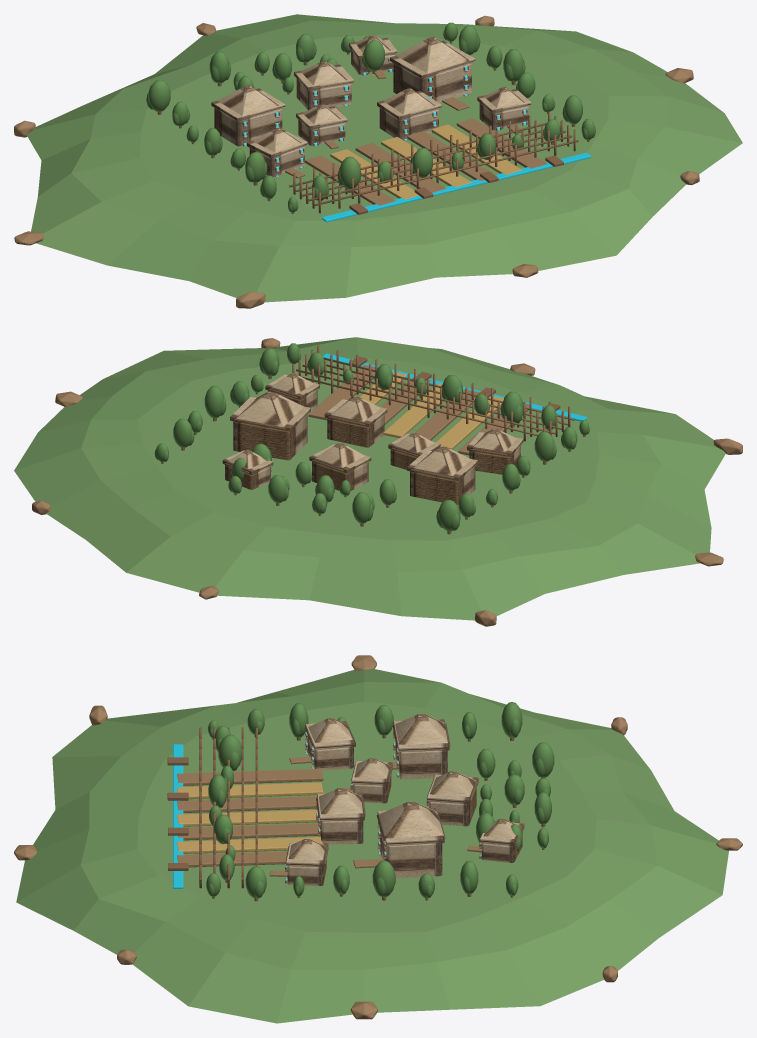
File: shinovar.glb
3 renders of one model, top to bottom at view 1: azimuth 30°, elevation 25°; view 2: azimuth 150°, elevation 25°; view 3: azimuth 270°, elevation 25°, orthographic. The views are drawn at different scales.
Parts seen in each view (by area): view 1: Shinovar_TerrainCradle_Valley_Transition, Shinovar_TerrainCradle_Valley_Surface, Shinovar_FarmHome_03_FacadeRoofBatch, Shinovar_TerrainCradle_Valley_OutcropBatch, Shinovar_FarmHome_03_Building, Shinovar_FarmHome_01_FacadeRoofBatch, Shinovar_FarmHome_01_Building, Shinovar_FarmHome_07_FacadeRoofBatch, Shinovar_FarmHome_02_FacadeRoofBatch, Shinovar_IrrigationChannel, Shinovar_FarmHome_05_FacadeRoofBatch, Shinovar_FarmHome_07_Building (+20 smaller); view 2: Shinovar_TerrainCradle_Valley_Transition, Shinovar_TerrainCradle_Valley_Surface, Shinovar_TerrainCradle_Valley_OutcropBatch, Shinovar_FarmHome_03_FacadeRoofBatch, Shinovar_FarmHome_03_Building, Shinovar_FarmHome_01_Building, Shinovar_FarmHome_01_FacadeRoofBatch, Shinovar_FarmHome_07_Building, Shinovar_FarmHome_07_FacadeRoofBatch, Shinovar_FarmHome_02_FacadeRoofBatch, Shinovar_FarmHome_05_FacadeRoofBatch, Shinovar_Field_4 (+16 smaller); view 3: Shinovar_TerrainCradle_Valley_Transition, Shinovar_TerrainCradle_Valley_Surface, Shinovar_FarmHome_03_FacadeRoofBatch, Shinovar_TerrainCradle_Valley_OutcropBatch, Shinovar_FarmHome_01_FacadeRoofBatch, Shinovar_FarmHome_03_Building, Shinovar_Field_3, Shinovar_Field_1, Shinovar_FarmHome_07_FacadeRoofBatch, Shinovar_Field_4, Shinovar_Field_2, Shinovar_Field_5 (+16 smaller).
Boxes of the visible parts, <box> form: Shinovar_TerrainCradle_Valley_Transition: <box>26,14,742,302</box>; Shinovar_TerrainCradle_Valley_Surface: <box>139,34,608,220</box>; Shinovar_FarmHome_03_FacadeRoofBatch: <box>390,36,475,98</box>; Shinovar_TerrainCradle_Valley_OutcropBatch: <box>14,15,699,308</box>; Shinovar_FarmHome_03_Building: <box>393,63,471,103</box>; Shinovar_FarmHome_01_FacadeRoofBatch: <box>211,85,285,146</box>; Shinovar_FarmHome_01_Building: <box>214,108,282,146</box>; Shinovar_FarmHome_07_FacadeRoofBatch: <box>377,88,441,140</box>; Shinovar_FarmHome_02_FacadeRoofBatch: <box>294,61,353,106</box>; Shinovar_IrrigationChannel: <box>322,152,591,222</box>; Shinovar_FarmHome_05_FacadeRoofBatch: <box>247,128,307,177</box>; Shinovar_FarmHome_07_Building: <box>379,108,438,139</box>; Shinovar_TerrainCradle_Valley_Transition: <box>14,337,725,620</box>; Shinovar_TerrainCradle_Valley_Surface: <box>137,358,599,540</box>; Shinovar_TerrainCradle_Valley_OutcropBatch: <box>32,338,742,626</box>; Shinovar_FarmHome_03_FacadeRoofBatch: <box>230,391,310,431</box>; Shinovar_FarmHome_03_Building: <box>233,415,307,460</box>; Shinovar_FarmHome_01_Building: <box>410,466,475,505</box>; Shinovar_FarmHome_01_FacadeRoofBatch: <box>407,446,477,480</box>; Shinovar_FarmHome_07_Building: <box>327,415,384,447</box>; Shinovar_FarmHome_07_FacadeRoofBatch: <box>324,396,387,426</box>; Shinovar_FarmHome_02_FacadeRoofBatch: <box>309,442,371,473</box>; Shinovar_FarmHome_05_FacadeRoofBatch: <box>467,429,523,456</box>; Shinovar_Field_4: <box>383,383,443,437</box>; Shinovar_TerrainCradle_Valley_Transition: <box>16,669,728,1023</box>; Shinovar_TerrainCradle_Valley_Surface: <box>137,701,596,932</box>; Shinovar_FarmHome_03_FacadeRoofBatch: <box>376,802,445,859</box>; Shinovar_TerrainCradle_Valley_OutcropBatch: <box>14,655,742,1019</box>; Shinovar_FarmHome_01_FacadeRoofBatch: <box>392,714,450,777</box>; Shinovar_FarmHome_03_Building: <box>380,828,442,878</box>; Shinovar_Field_3: <box>177,796,316,812</box>; Shinovar_Field_1: <box>177,769,323,785</box>; Shinovar_FarmHome_07_FacadeRoofBatch: <box>316,788,365,836</box>; Shinovar_Field_4: <box>177,809,317,826</box>; Shinovar_Field_2: <box>177,782,323,799</box>; Shinovar_Field_5: <box>178,823,319,840</box>.
Bounding box in the file's own units: 16.58 × 2.16 × 14.02.
8 materials, 1 textured.
